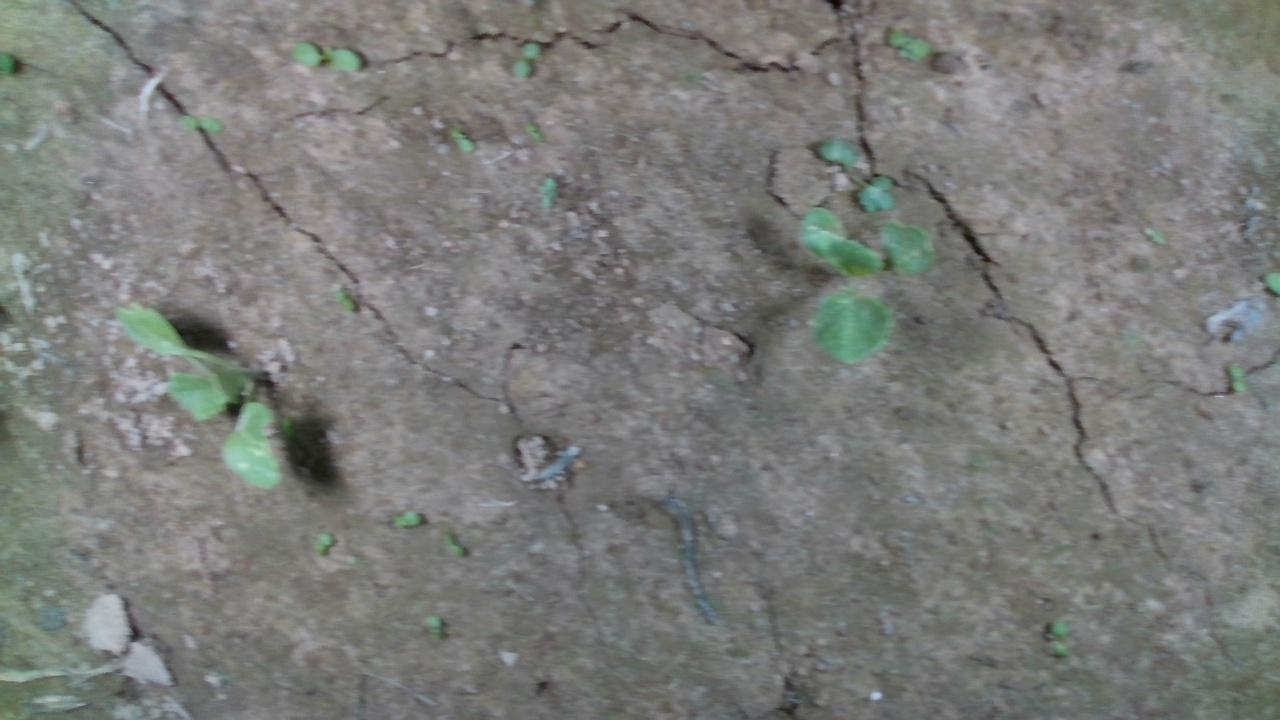weed: (285, 40, 361, 74), (509, 40, 540, 80), (173, 112, 224, 133), (535, 176, 557, 213), (1225, 361, 1246, 393)
